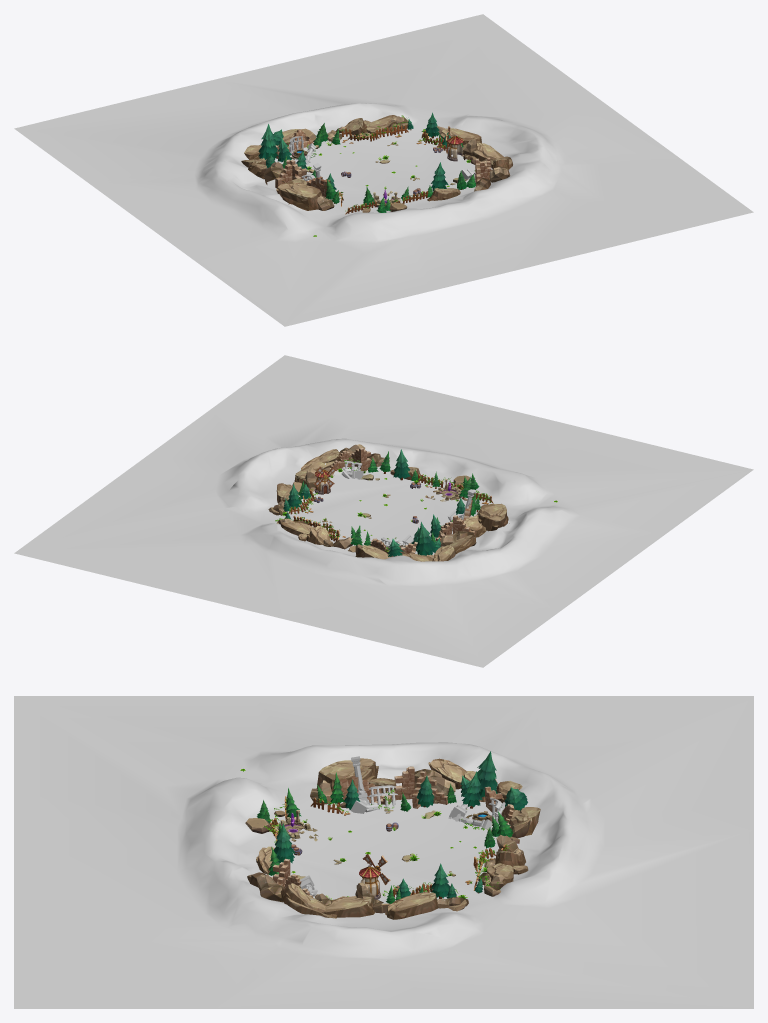
Rendered from wujian.fbx.
3 views of the same model, one above another, from view 1: azimuth 30°, elevation 25°; view 2: azimuth 150°, elevation 25°; view 3: azimuth 270°, elevation 25° (orthographic). The views are drawn at different scales.
Visible parts, largest first — view 1: caodi_dimian02, caodi_shitou_03 (15); view 2: caodi_dimian02, caodi_shitou_03 (15); view 3: caodi_dimian02, caodi_shitou_03 (15), caodi_shitou_03 (5), caodi_shitou_03 (4), caodi_shitou_03 (18), caodi_shu_01 (9), caodi_weiqiang03 (1), caodi_shitou_03 (1), caodi_shitou_02 (17).
Boxes of the visible parts, x1,y1,x2,y2 form: caodi_dimian02: [14, 14, 753, 326]; caodi_shitou_03 (15): [276, 182, 322, 210]; caodi_dimian02: [14, 355, 753, 667]; caodi_shitou_03 (15): [478, 503, 509, 531]; caodi_dimian02: [14, 696, 753, 1008]; caodi_shitou_03 (15): [316, 758, 378, 791]; caodi_shitou_03 (5): [385, 892, 437, 919]; caodi_shitou_03 (4): [321, 896, 374, 917]; caodi_shitou_03 (18): [428, 758, 466, 789]; caodi_shu_01 (9): [477, 751, 497, 797]; caodi_weiqiang03 (1): [382, 766, 414, 800]; caodi_shitou_03 (1): [284, 894, 337, 918]; caodi_shitou_02 (17): [256, 874, 284, 902].
Size of the model in its own units: 199 by 21.12 by 199.
